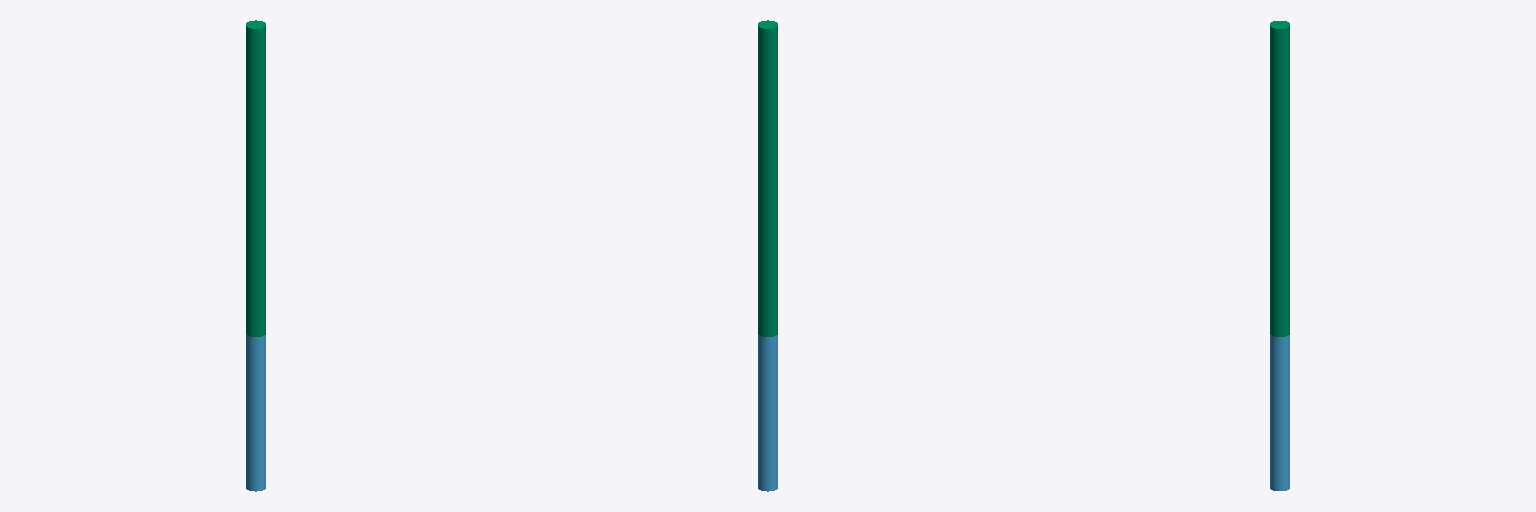
The robot description file, URDF, robot "LISM_Arm":
<?xml version="1.0" ?>
<robot name="LISM_Arm">
    
    <link name="base">
        <!-- <visual>
            <origin rpy="0.0 0.0 0.0" xyz="0 0 0.01"/>
            <geometry>
                <box size = "0.2 0.3 0.02"/>
            </geometry>
        </visual> -->
		<inertial>
			<origin rpy = "0 0 0" xyz = "0 0 0" />
			<mass value = "0.0001" />
			<inertia ixx = "0.00001" ixy = "0" ixz = "0" iyy = "0.00001" iyz = "0" izz = "0.00001" />
		</inertial>
    </link>

    <joint name="BaseToLink" type="continuous">
        <axis xyz="-1 0 0"/>
        <origin rpy="0 0 0" xyz="0.0 0.0 0.0"/>
        <parent link="base"/>
        <child link="link1"/>
    </joint>

    <link name="link1">
        <visual>
            <origin rpy="0.0 0.0 0.0" xyz="0 0 0.25"/>
            <geometry>
                <cylinder length="0.5" radius="0.03"/>
            </geometry>
        </visual>
        <inertial>
            <mass value="0.5"/>
            <origin rpy="0.0 0.0 0.0" xyz="0 0 0.25"/>
            <inertia ixx="0.0104167" ixy="0" ixz="0.0" iyy="0.0104167" iyz="0" izz="0.000225"/>
        </inertial>
        <collision>
            <origin rpy="0.0 0.0 0.0" xyz="0 0 0.25"/>
            <geometry>
                <cylinder length="0.5" radius="0.03"/>
            </geometry>
        </collision>
    </link>

    <joint name="l12l2" type="continuous">
        <axis xyz="-1 0 0"/>
        <origin rpy="0 0 0" xyz="0.0 0.0 0.5"/>
        <parent link="link1"/>
        <child link="link2"/>
    </joint>

    <link name="link2">
        <visual>
            <origin rpy="0.0 0.0 0.0" xyz="0 0 0.5"/>
            <geometry>
                <cylinder length="1.0" radius="0.03"/>
            </geometry>
        </visual>
        <inertial>
            <mass value="0.2"/>
            <origin rpy="0.0 0.0 0.0" xyz="0 0 0.5"/>
            <inertia ixx="0.0167" ixy="0" ixz="0.0" iyy="0.0015" iyz="0" izz="0.000225"/>
        </inertial>
        <collision>
            <origin rpy="0.0 0.0 0.0" xyz="0 0 0.5"/>
            <geometry>
                <cylinder length="1.0" radius="0.03"/>
            </geometry>
        </collision>
    </link>

    

</robot>

--- Facts derived from the render (not from the file) ---
3 views of the same robot in one strip: view 1: azimuth 30°, elevation 25°; view 2: azimuth 150°, elevation 25°; view 3: azimuth 270°, elevation 25° (orthographic).
Model LISM_Arm with 3 links and 2 joints (2 continuous), rooted at base, posed all joints at 0.
Visible links, largest first — view 1: link2, link1; view 2: link2, link1; view 3: link2, link1.
Boxes of the visible links, left/top/right/bottom form: link2: left=246, top=20, right=265, bottom=336; link1: left=246, top=335, right=265, bottom=491; link2: left=758, top=20, right=777, bottom=336; link1: left=758, top=335, right=777, bottom=491; link2: left=1270, top=21, right=1289, bottom=336; link1: left=1270, top=335, right=1289, bottom=490.
Bounding box of the posed robot: 0.06 × 0.06 × 1.5 m (x, y, z).
Geometry: primitives only (box / cylinder / sphere), no mesh files.
